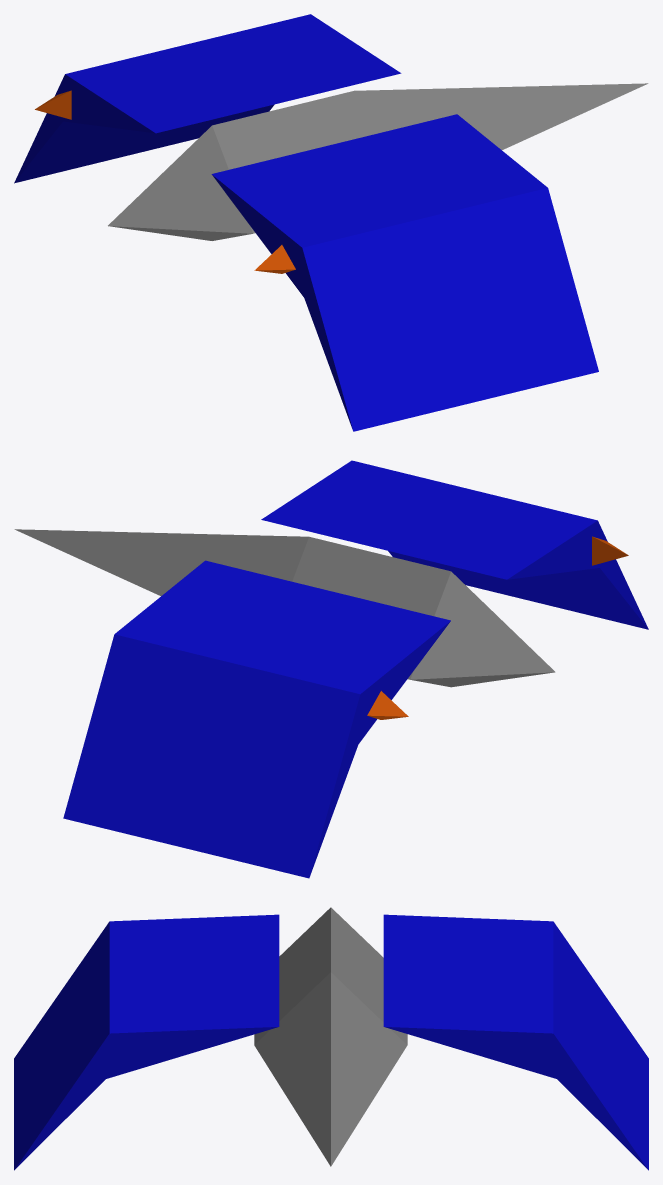
The model's file is spaceship.obj.
3 renders of one model, top to bottom at view 1: azimuth 30°, elevation 25°; view 2: azimuth 150°, elevation 25°; view 3: azimuth 270°, elevation 25°, orthographic. The views are drawn at different scales.
Visible parts, largest first — view 1: Cube.002, Cube, Cube.001, Cone.001, Cone; view 2: Cube, Cube.002, Cube.001, Cone, Cone.001; view 3: Cube, Cube.002, Cube.001.
Boxes of the visible parts, x1,y1,x2,y2 form: Cube.002: (211, 114, 598, 431); Cube: (14, 14, 401, 183); Cube.001: (108, 83, 648, 240); Cone.001: (254, 245, 295, 273); Cone: (35, 90, 71, 119); Cube: (63, 560, 450, 878); Cube.002: (261, 460, 648, 629); Cube.001: (14, 529, 555, 687); Cone: (367, 691, 408, 719); Cone.001: (592, 536, 628, 565); Cube: (383, 914, 648, 1170); Cube.002: (14, 914, 279, 1170); Cube.001: (254, 907, 407, 1166).
Bounding box in the file's own units: 4.41 × 1.37 × 4.78.
